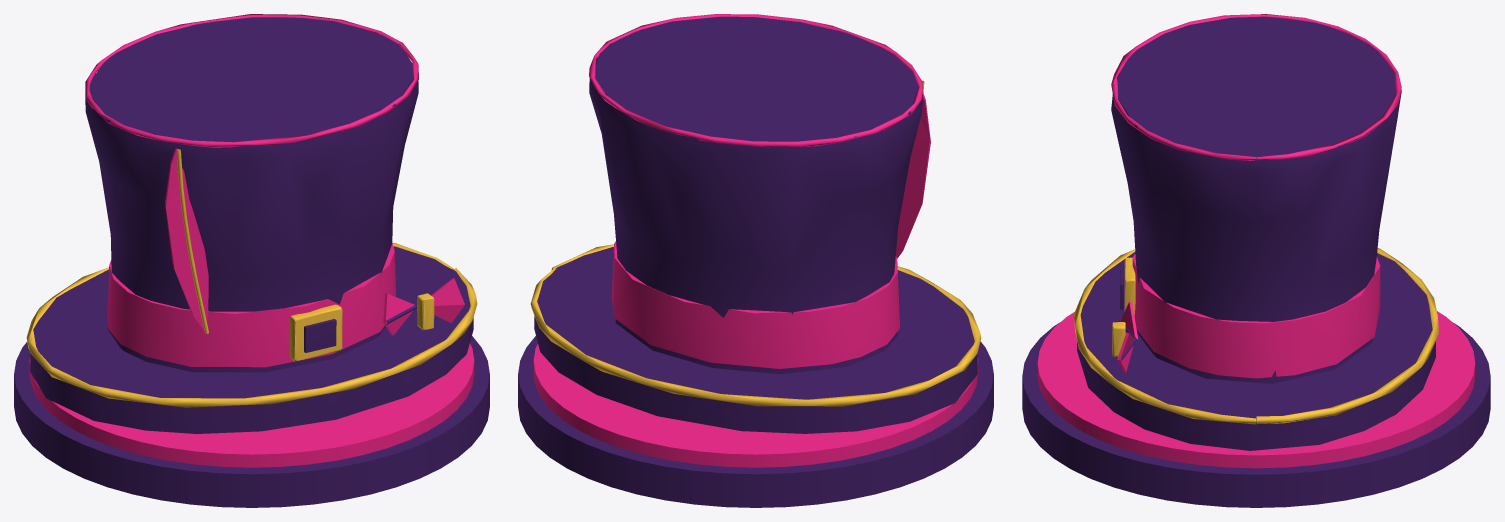
File: desk.hat.top-hat.lod1.glb
The picture shows the model from 3 angles, left to right: view 1: azimuth 30°, elevation 25°; view 2: azimuth 150°, elevation 25°; view 3: azimuth 270°, elevation 25°; orthographic projection.
Visible parts, largest first — view 1: silk_crown, rolled_brim, stand_base, stand_trim, satin_hatband, brim_binding, crown_bound_seam, feather_vane, hatband_buckle, grosgrain_bow.001, buckle_inset, feather_quill (+2 smaller); view 2: silk_crown, rolled_brim, stand_base, satin_hatband, stand_trim, brim_binding, crown_bound_seam, feather_vane; view 3: silk_crown, rolled_brim, stand_base, stand_trim, satin_hatband, brim_binding, crown_bound_seam, hatband_buckle.
Boxes of the visible parts, bbox=[...] form: silk_crown: bbox=[85, 17, 418, 372]; rolled_brim: bbox=[30, 246, 473, 433]; stand_base: bbox=[14, 336, 489, 507]; stand_trim: bbox=[29, 343, 474, 467]; satin_hatband: bbox=[107, 243, 395, 367]; brim_binding: bbox=[26, 242, 477, 407]; crown_bound_seam: bbox=[85, 14, 418, 147]; feather_vane: bbox=[165, 148, 208, 330]; hatband_buckle: bbox=[289, 304, 342, 361]; grosgrain_bow.001: bbox=[431, 277, 464, 323]; buckle_inset: bbox=[304, 319, 336, 352]; feather_quill: bbox=[177, 149, 208, 333]; silk_crown: bbox=[589, 16, 922, 373]; rolled_brim: bbox=[534, 246, 977, 433]; stand_base: bbox=[518, 336, 993, 507]; satin_hatband: bbox=[612, 241, 899, 368]; stand_trim: bbox=[533, 343, 978, 467]; brim_binding: bbox=[530, 244, 981, 406]; crown_bound_seam: bbox=[589, 14, 922, 147]; feather_vane: bbox=[896, 91, 930, 258]; silk_crown: bbox=[1111, 16, 1401, 383]; rolled_brim: bbox=[1077, 252, 1435, 450]; stand_base: bbox=[1022, 322, 1490, 507]; stand_trim: bbox=[1037, 311, 1475, 468]; satin_hatband: bbox=[1132, 254, 1380, 378]; brim_binding: bbox=[1074, 248, 1438, 424]; crown_bound_seam: bbox=[1111, 14, 1401, 160]; hatband_buckle: bbox=[1124, 257, 1135, 315].
Size of the model in its own units: 0.48 by 0.3669 by 0.48.
